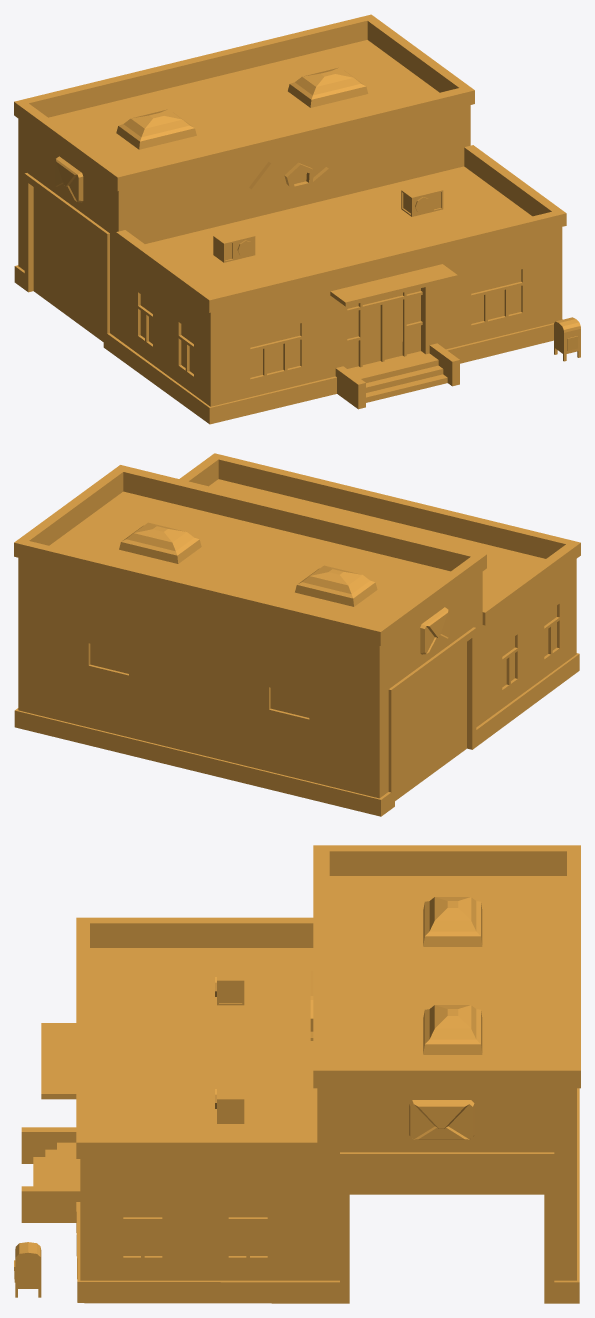
The model's file is building-post.fbx.
3 views of the same model, one above another, from view 1: azimuth 30°, elevation 25°; view 2: azimuth 150°, elevation 25°; view 3: azimuth 270°, elevation 25° (orthographic). The views are drawn at different scales.
Parts seen in each view (by area): view 1: building-post; view 2: building-post; view 3: building-post.
Part boxes in pixels (x1,y1,x2,y2): building-post: (14,14,580,424); building-post: (14,453,580,816); building-post: (14,845,580,1303).
Size of the model in its own units: 13.92 by 6.6 by 14.55.
